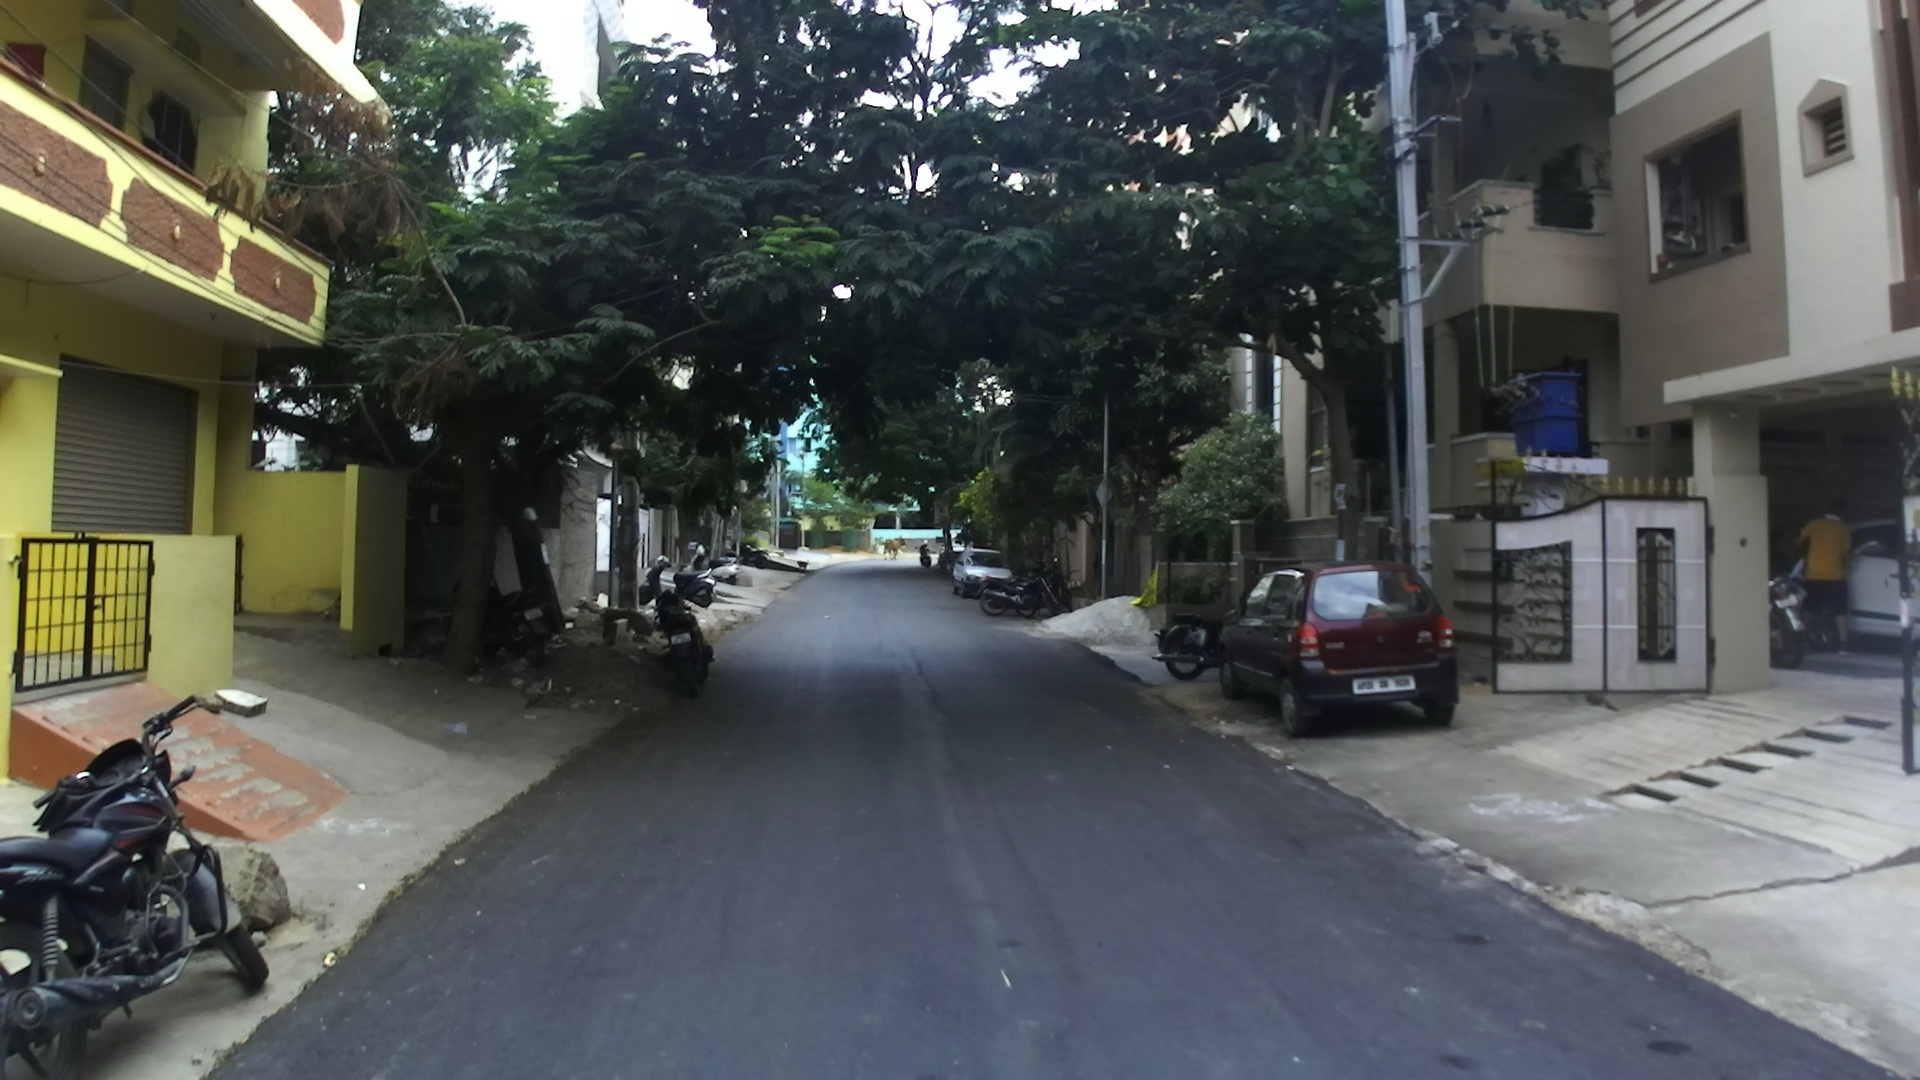vehicle: (0, 695, 276, 1073), (1215, 563, 1460, 735), (637, 580, 715, 696), (651, 603, 715, 699), (949, 550, 1011, 603), (955, 564, 1019, 615), (992, 576, 1046, 616)
